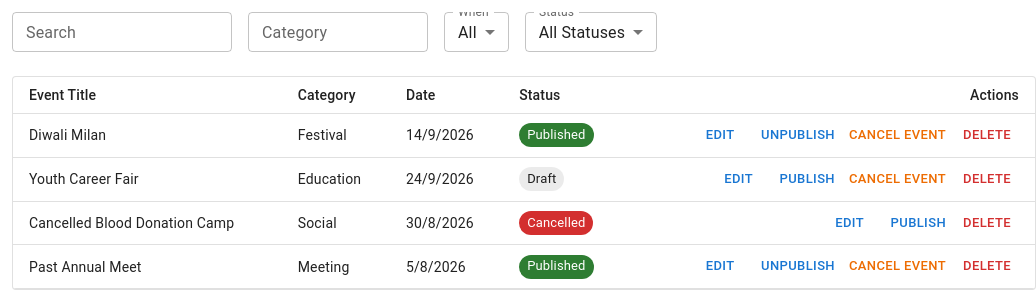
Test case: ManageEventsTab › filters by status
expect the text "Youth Career Fair" is shown: met, box x1=13 y1=157 x2=282 y2=201
Click the dropdown labelled "All Statuses". click: (582, 32)
box: x1=539 y1=22 x2=625 y2=42
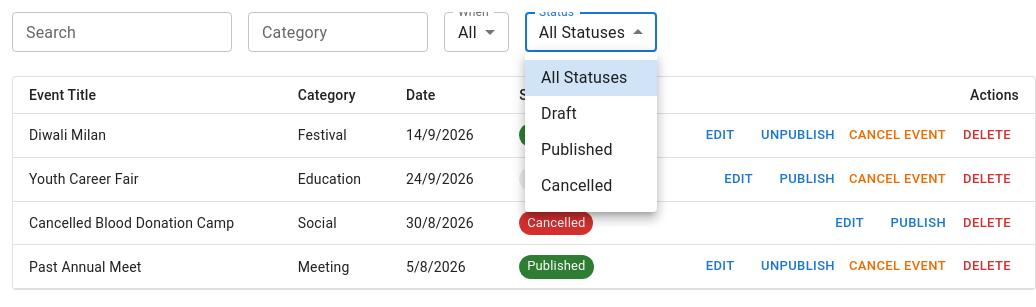
Click the option "Draft". click: (559, 114)
box: x1=541 y1=104 x2=577 y2=123
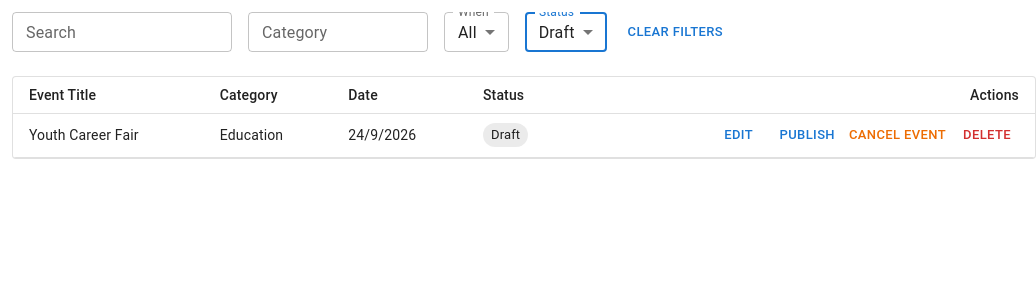
expect the text "Youth Career Fair" is shown: met, box x1=13 y1=114 x2=204 y2=157
expect the text "Diwali Milan" is gone: met
